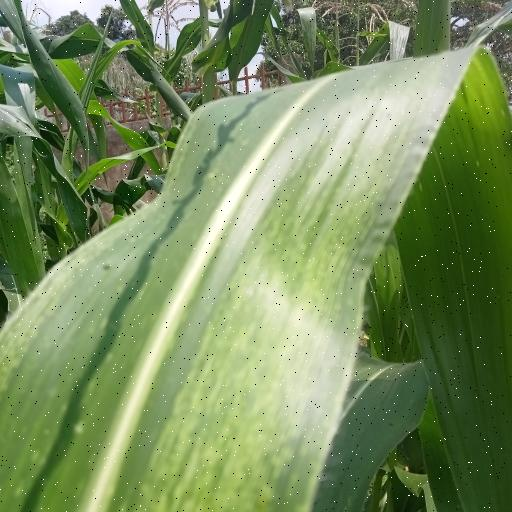Corn_Streak: (5, 52, 512, 509)
